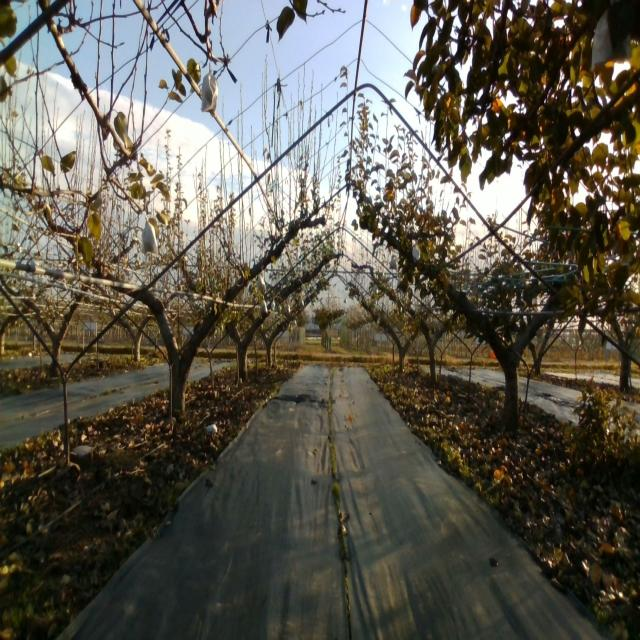pearbags: (200, 62, 219, 112), (140, 214, 159, 256)
